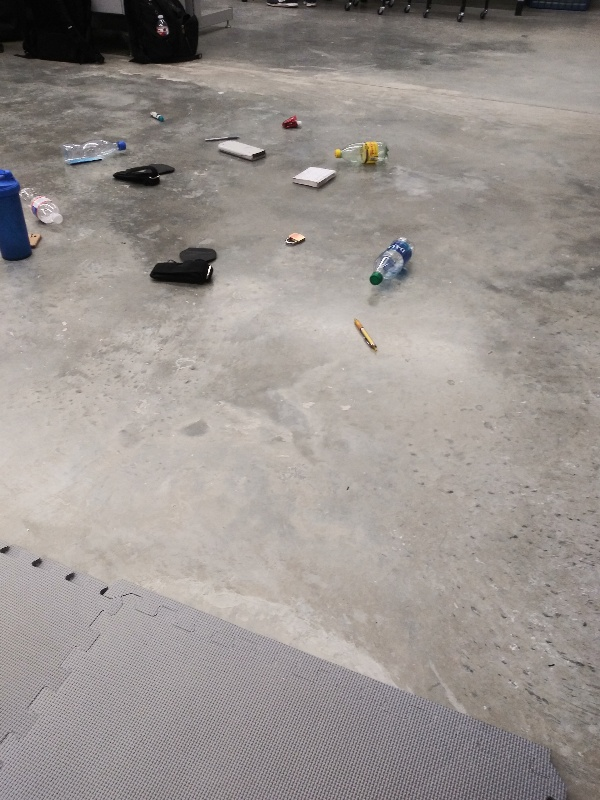bottle: (370, 234, 421, 298), (56, 133, 133, 169), (18, 179, 67, 230), (332, 138, 393, 172)
